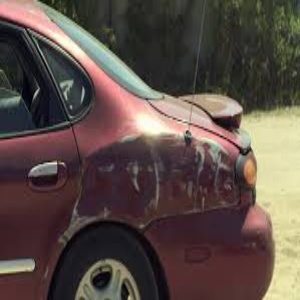bumper: (72, 131, 228, 219)
